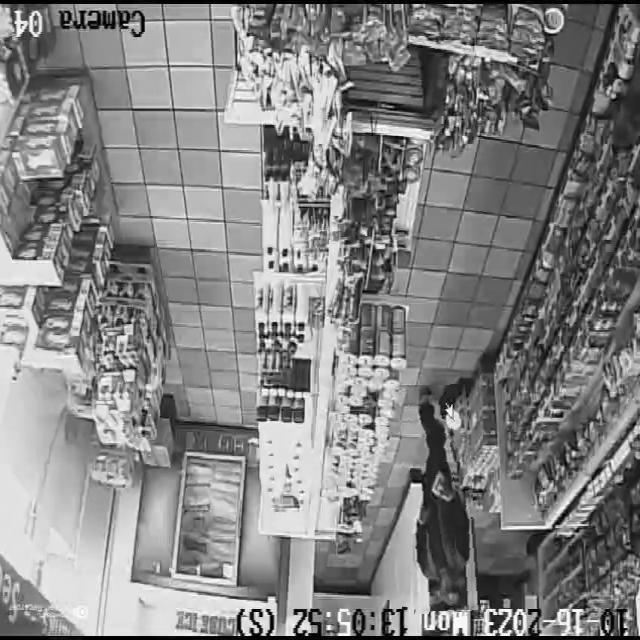Normal: (402, 385, 477, 614)
